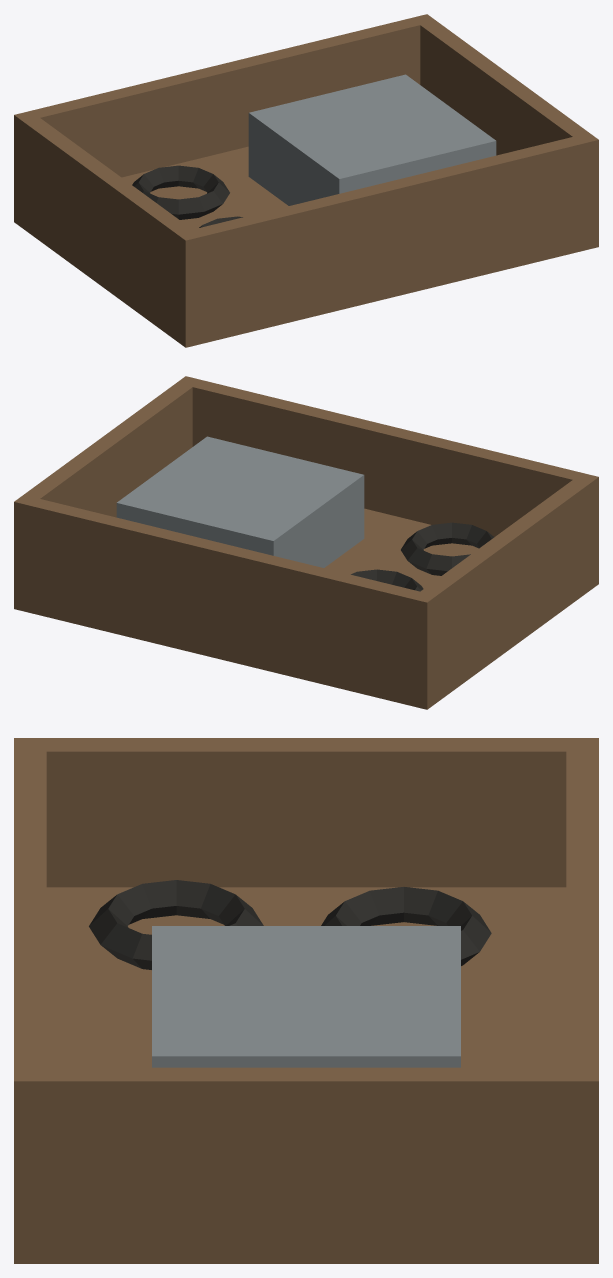
The model's file is S16_repair_supplies_a.glb.
The picture shows the model from 3 angles, top to bottom: view 1: azimuth 30°, elevation 25°; view 2: azimuth 150°, elevation 25°; view 3: azimuth 270°, elevation 25°; orthographic projection. The views are drawn at different scales.
Visible parts, largest first — view 1: Tray base; view 2: Tray base; view 3: Tray base.
Part boxes in pixels (box(x1,y1,x2,y2)): Tray base: box(14, 14, 598, 347); Tray base: box(14, 376, 598, 709); Tray base: box(14, 738, 598, 1263).
Bounding box in the file's own units: 0.25 × 0.062 × 0.18.
